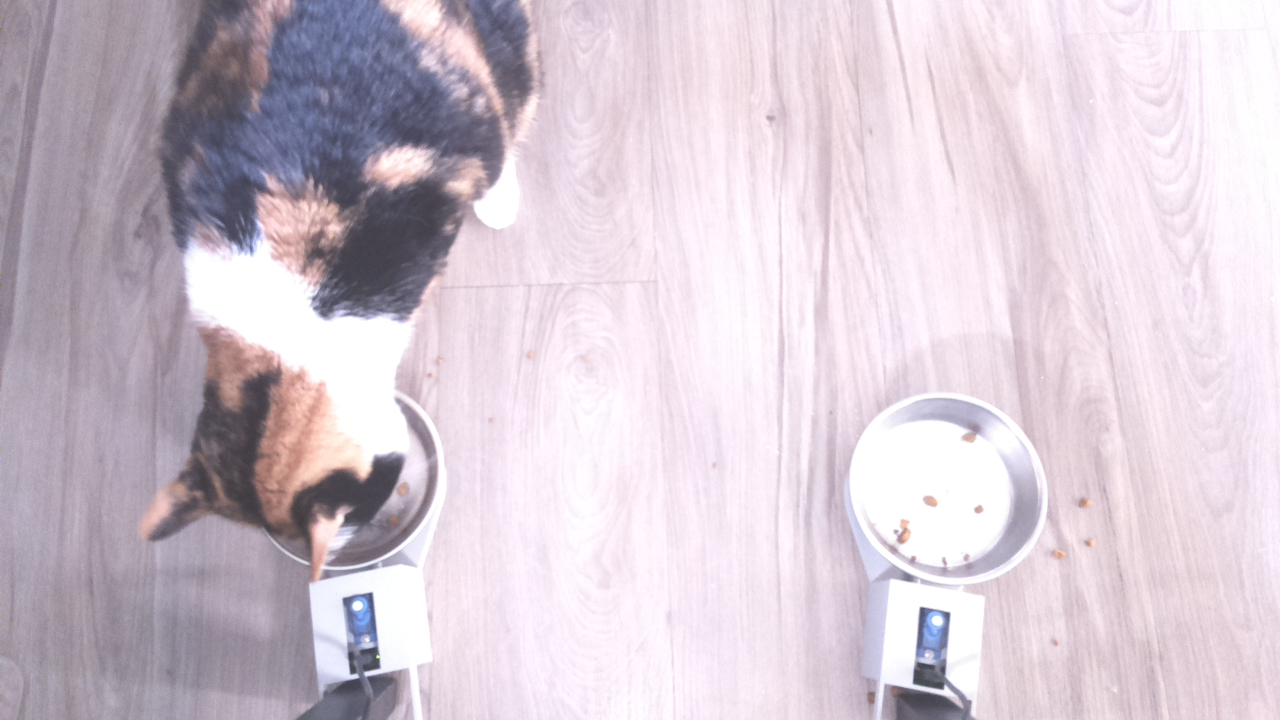bella_eating: (127, 332, 451, 577)
open_bowl: (835, 392, 1052, 598)
